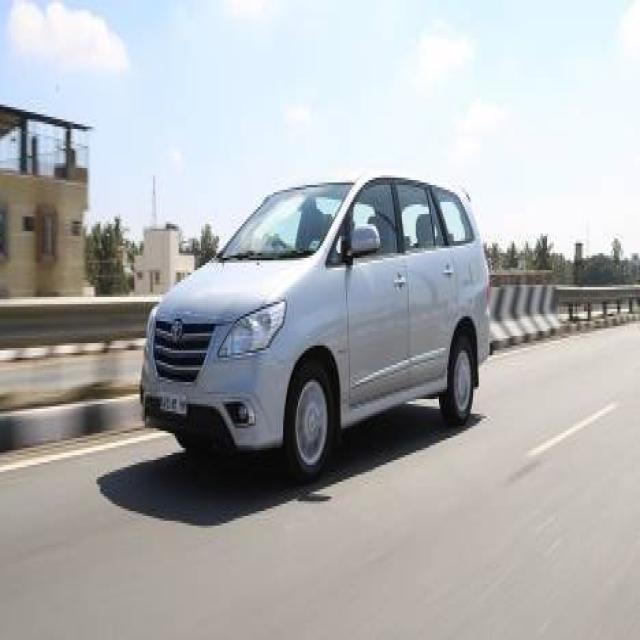light_vehicle: (138, 170, 492, 482)
